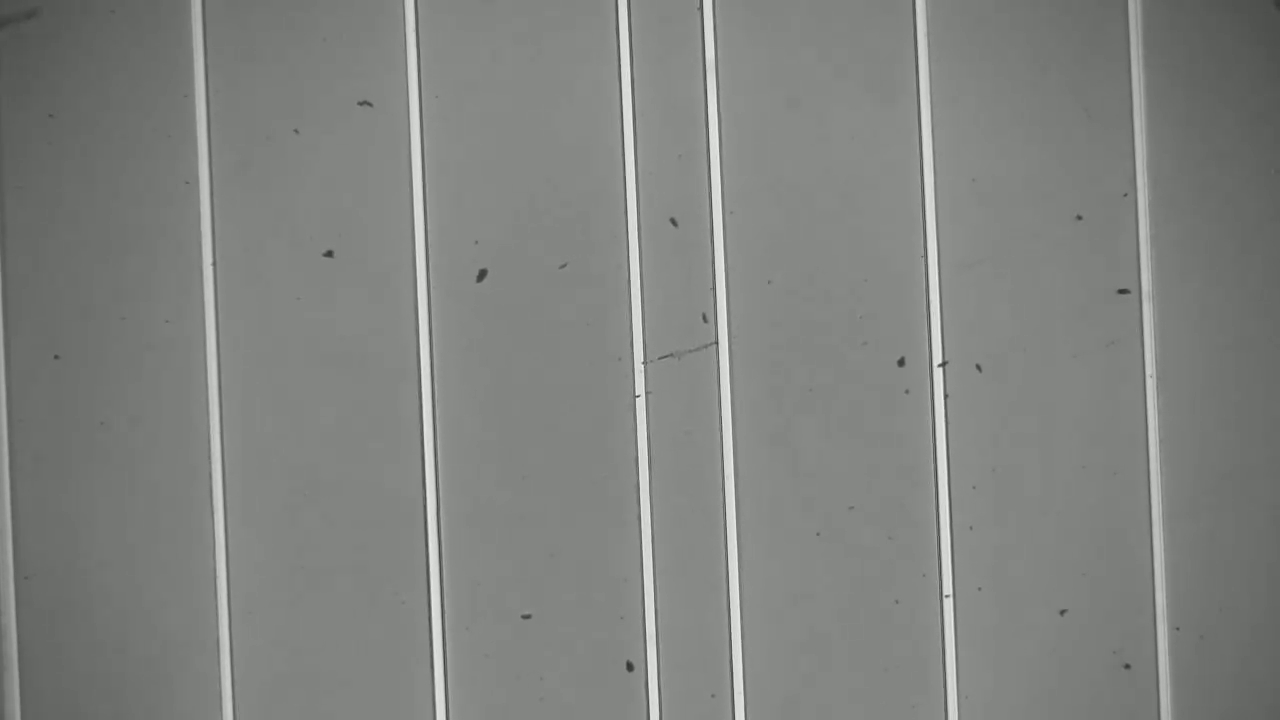scratch: (645, 340, 711, 364)
